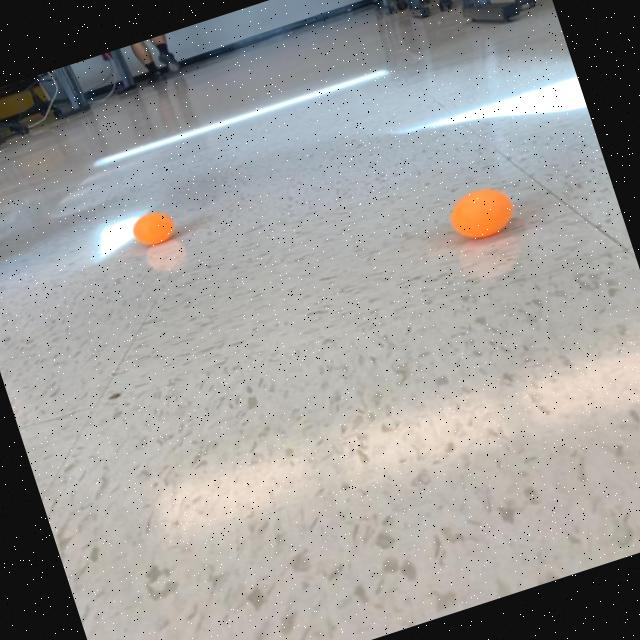ping-pong-ball: (441, 176, 524, 249), (126, 204, 180, 252)
